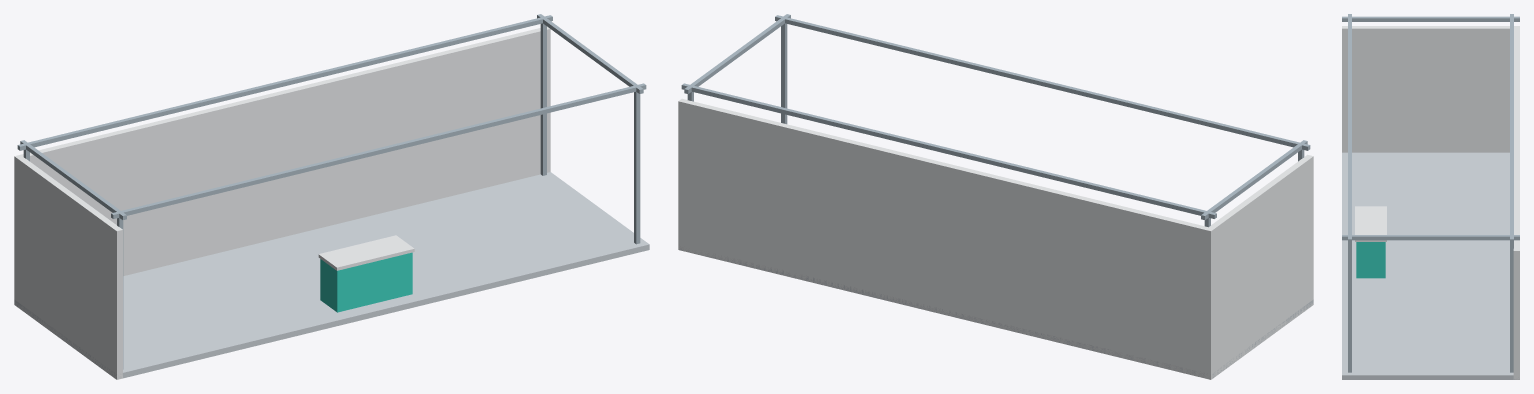
3 views of the same model, side by side, from view 1: azimuth 30°, elevation 25°; view 2: azimuth 150°, elevation 25°; view 3: azimuth 270°, elevation 25° (orthographic). The views are drawn at different scales.
Visible parts, largest first — view 1: Exhibition Booth Concept; view 2: Exhibition Booth Concept; view 3: Exhibition Booth Concept.
Boxes of the visible parts, x1,y1,x2,y2 form: Exhibition Booth Concept: [14, 14, 649, 379]; Exhibition Booth Concept: [678, 14, 1313, 379]; Exhibition Booth Concept: [1342, 14, 1519, 379].
Size of the model in its own units: 12 by 3.49 by 4.
